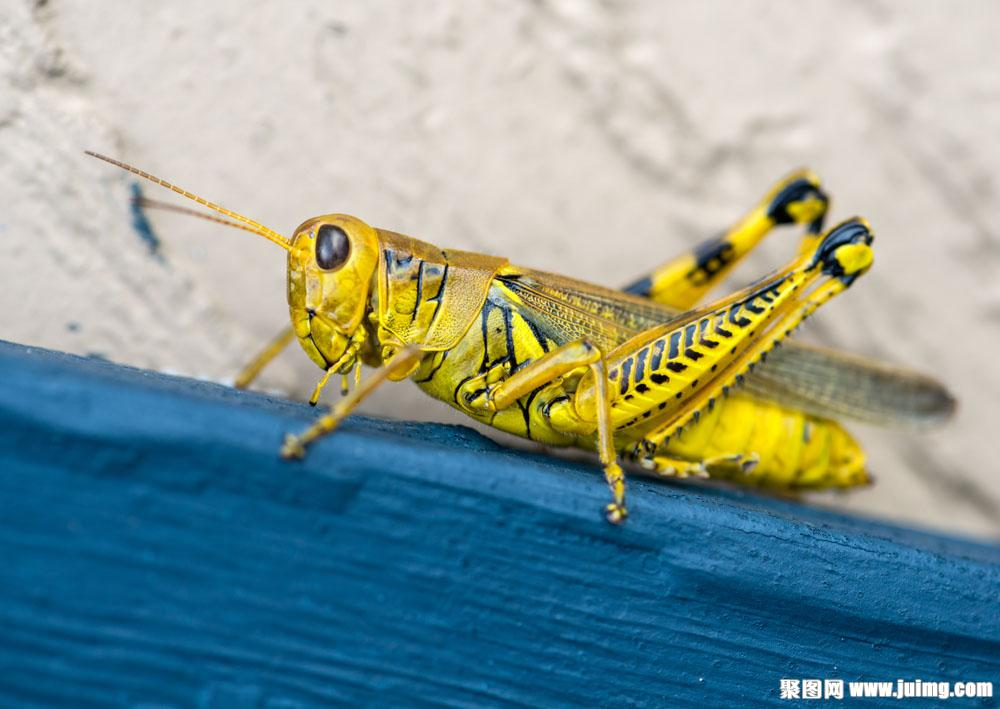huangchong: (257, 179, 893, 529)
